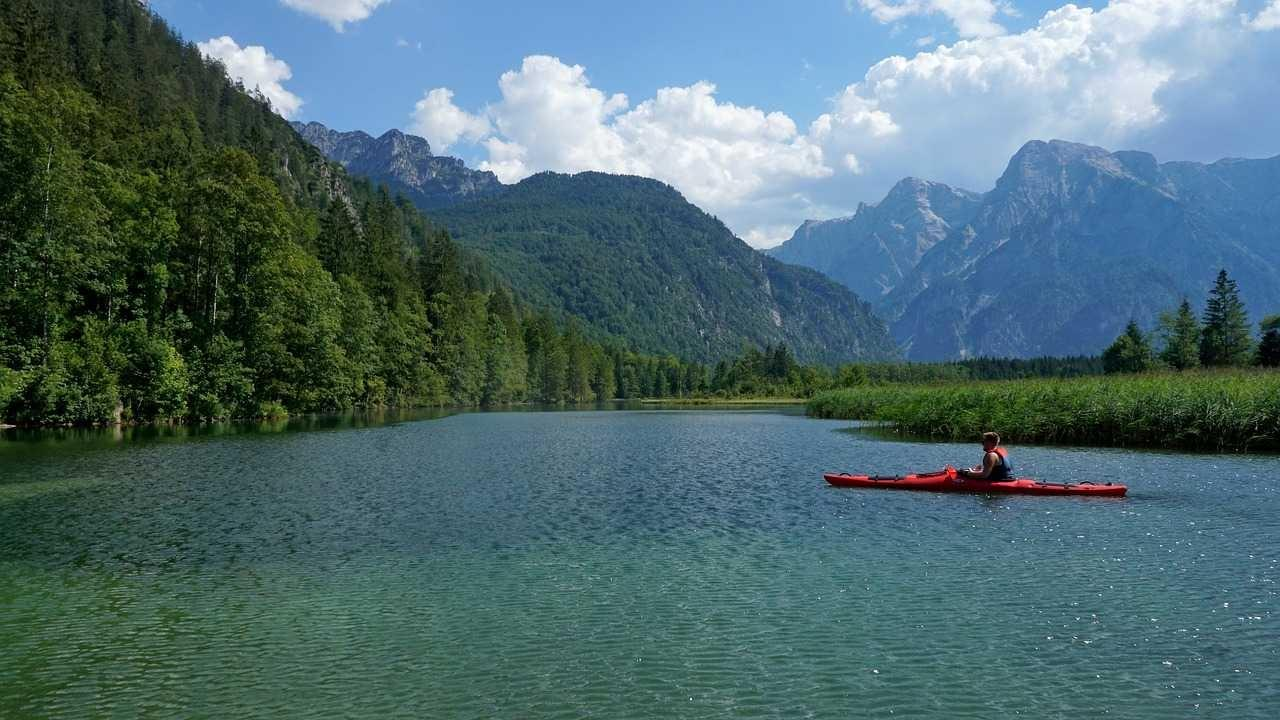kayak: (824, 466, 1126, 496)
